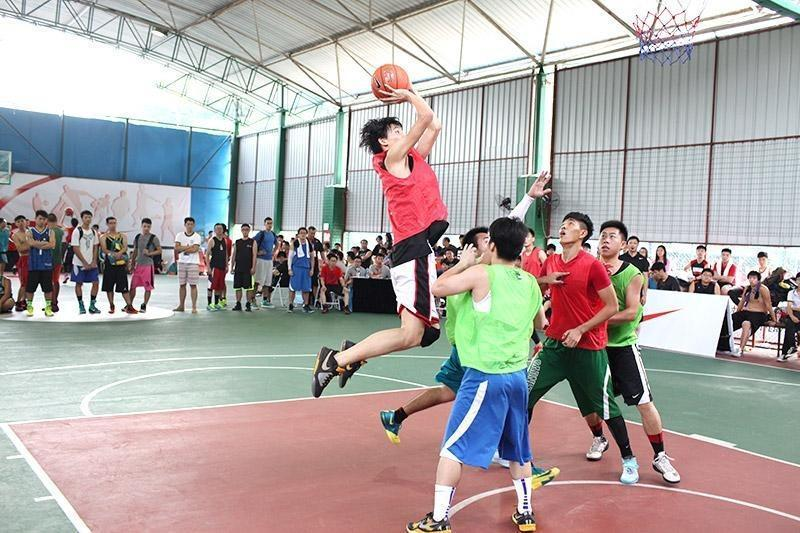ball: (370, 62, 412, 104)
human: (310, 82, 449, 399), (431, 216, 534, 533), (596, 220, 682, 483), (526, 214, 609, 462)
rim: (630, 0, 712, 69)
